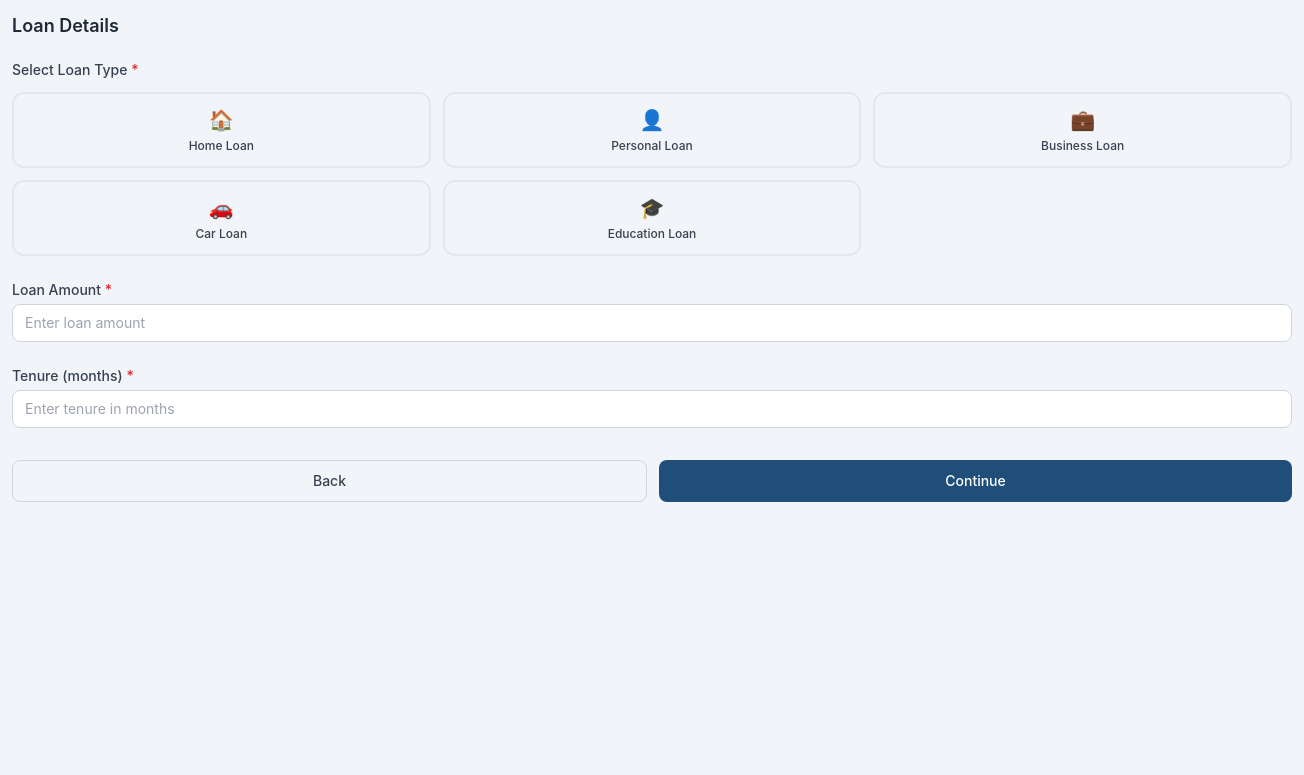
Test: LoanDetails component › shows eligibility card when income is available from store
Click the radio button with test id "loan-type-home" at (221, 130), box [12,92,431,168]
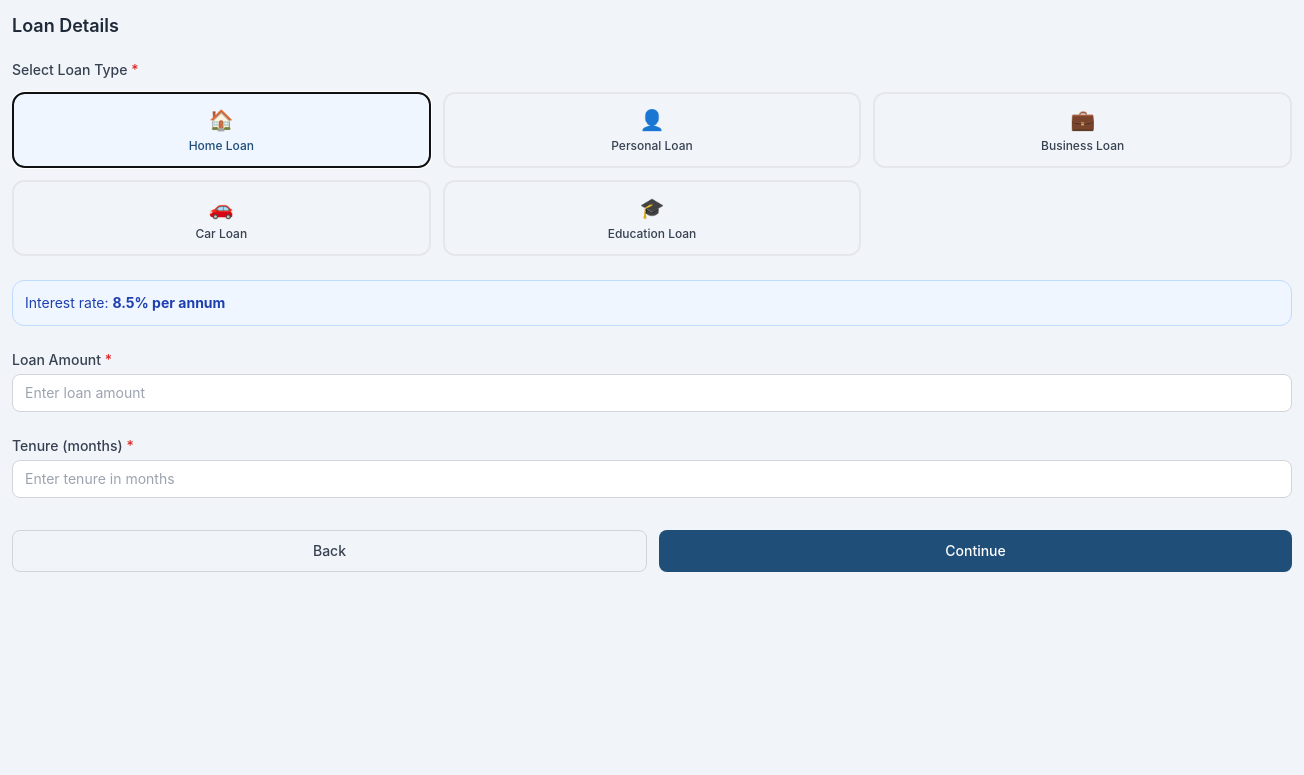
Type "3000000" into the number field named "loanAmount" at (652, 393), box [12,374,1292,412]
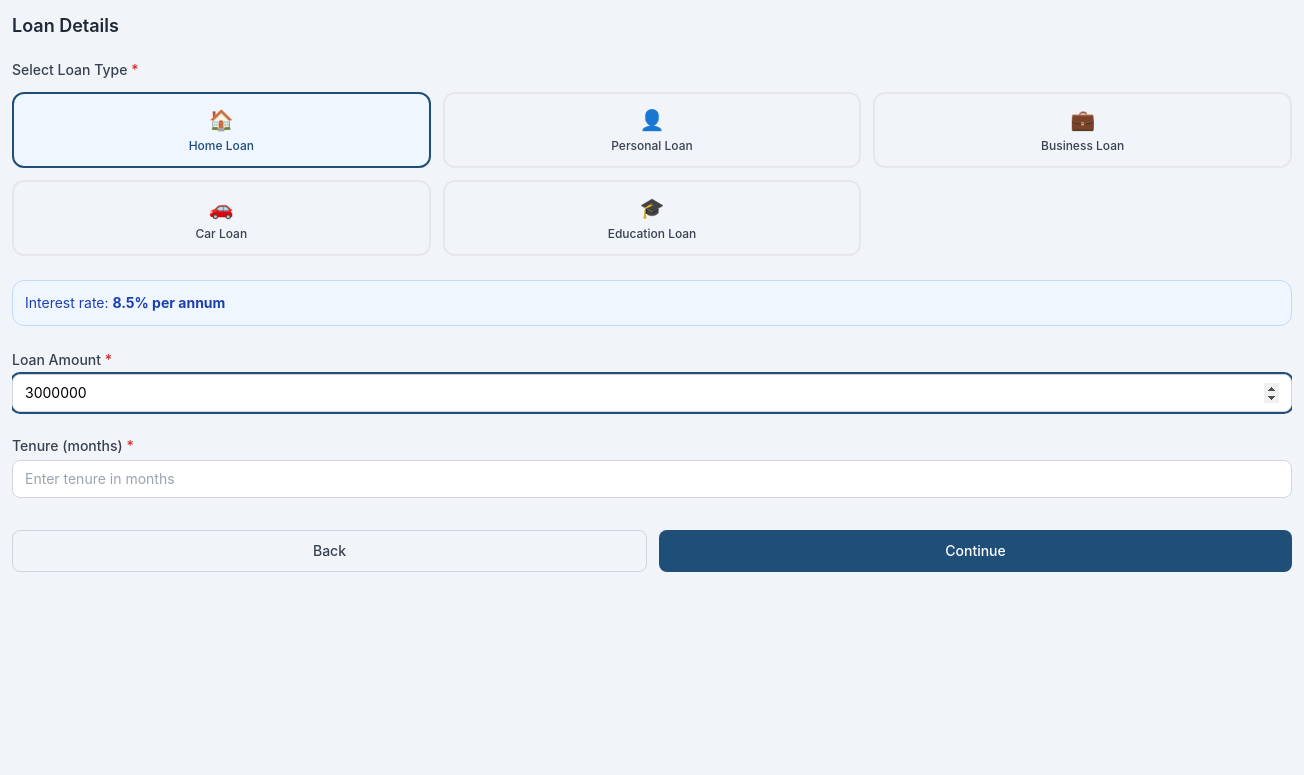
Type "240" into the number field named "tenure" at (652, 479), box [12,460,1292,498]
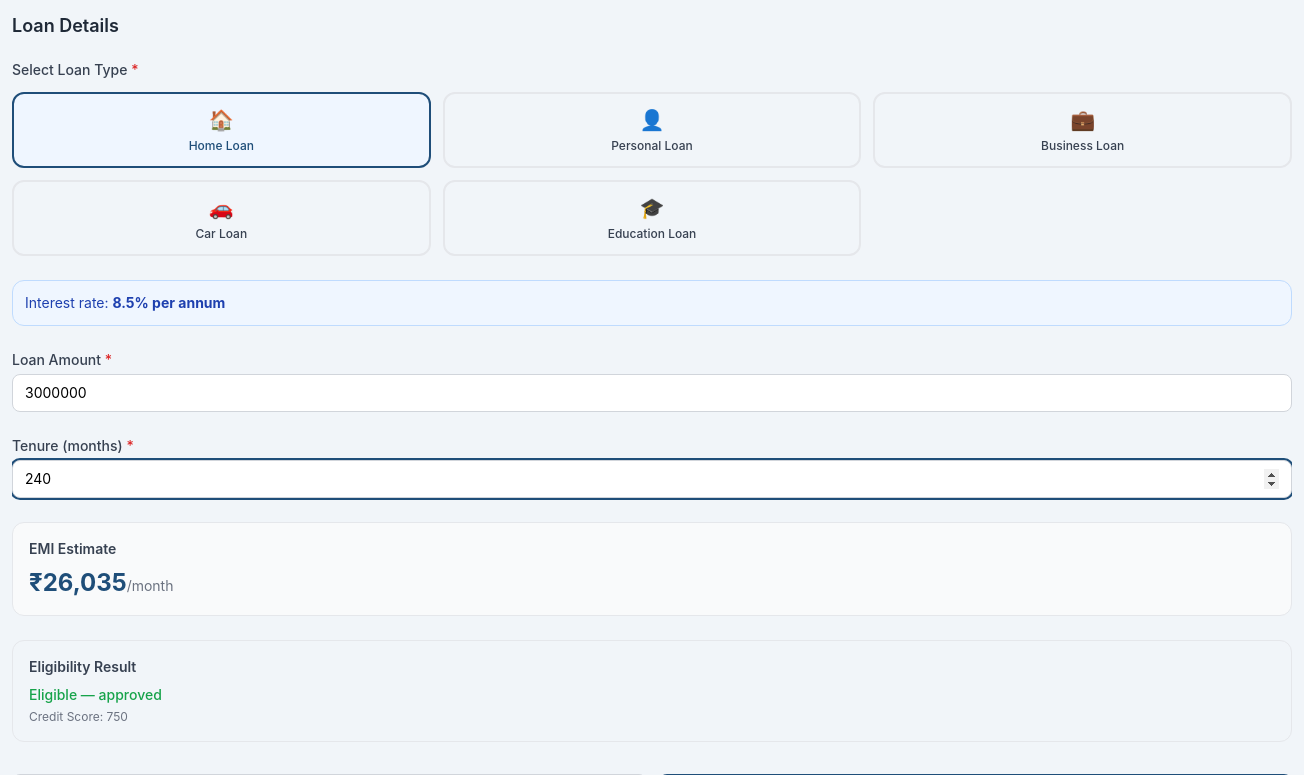
Result: the element with test id "eligibility-card" is shown at [12,640,1292,742]
